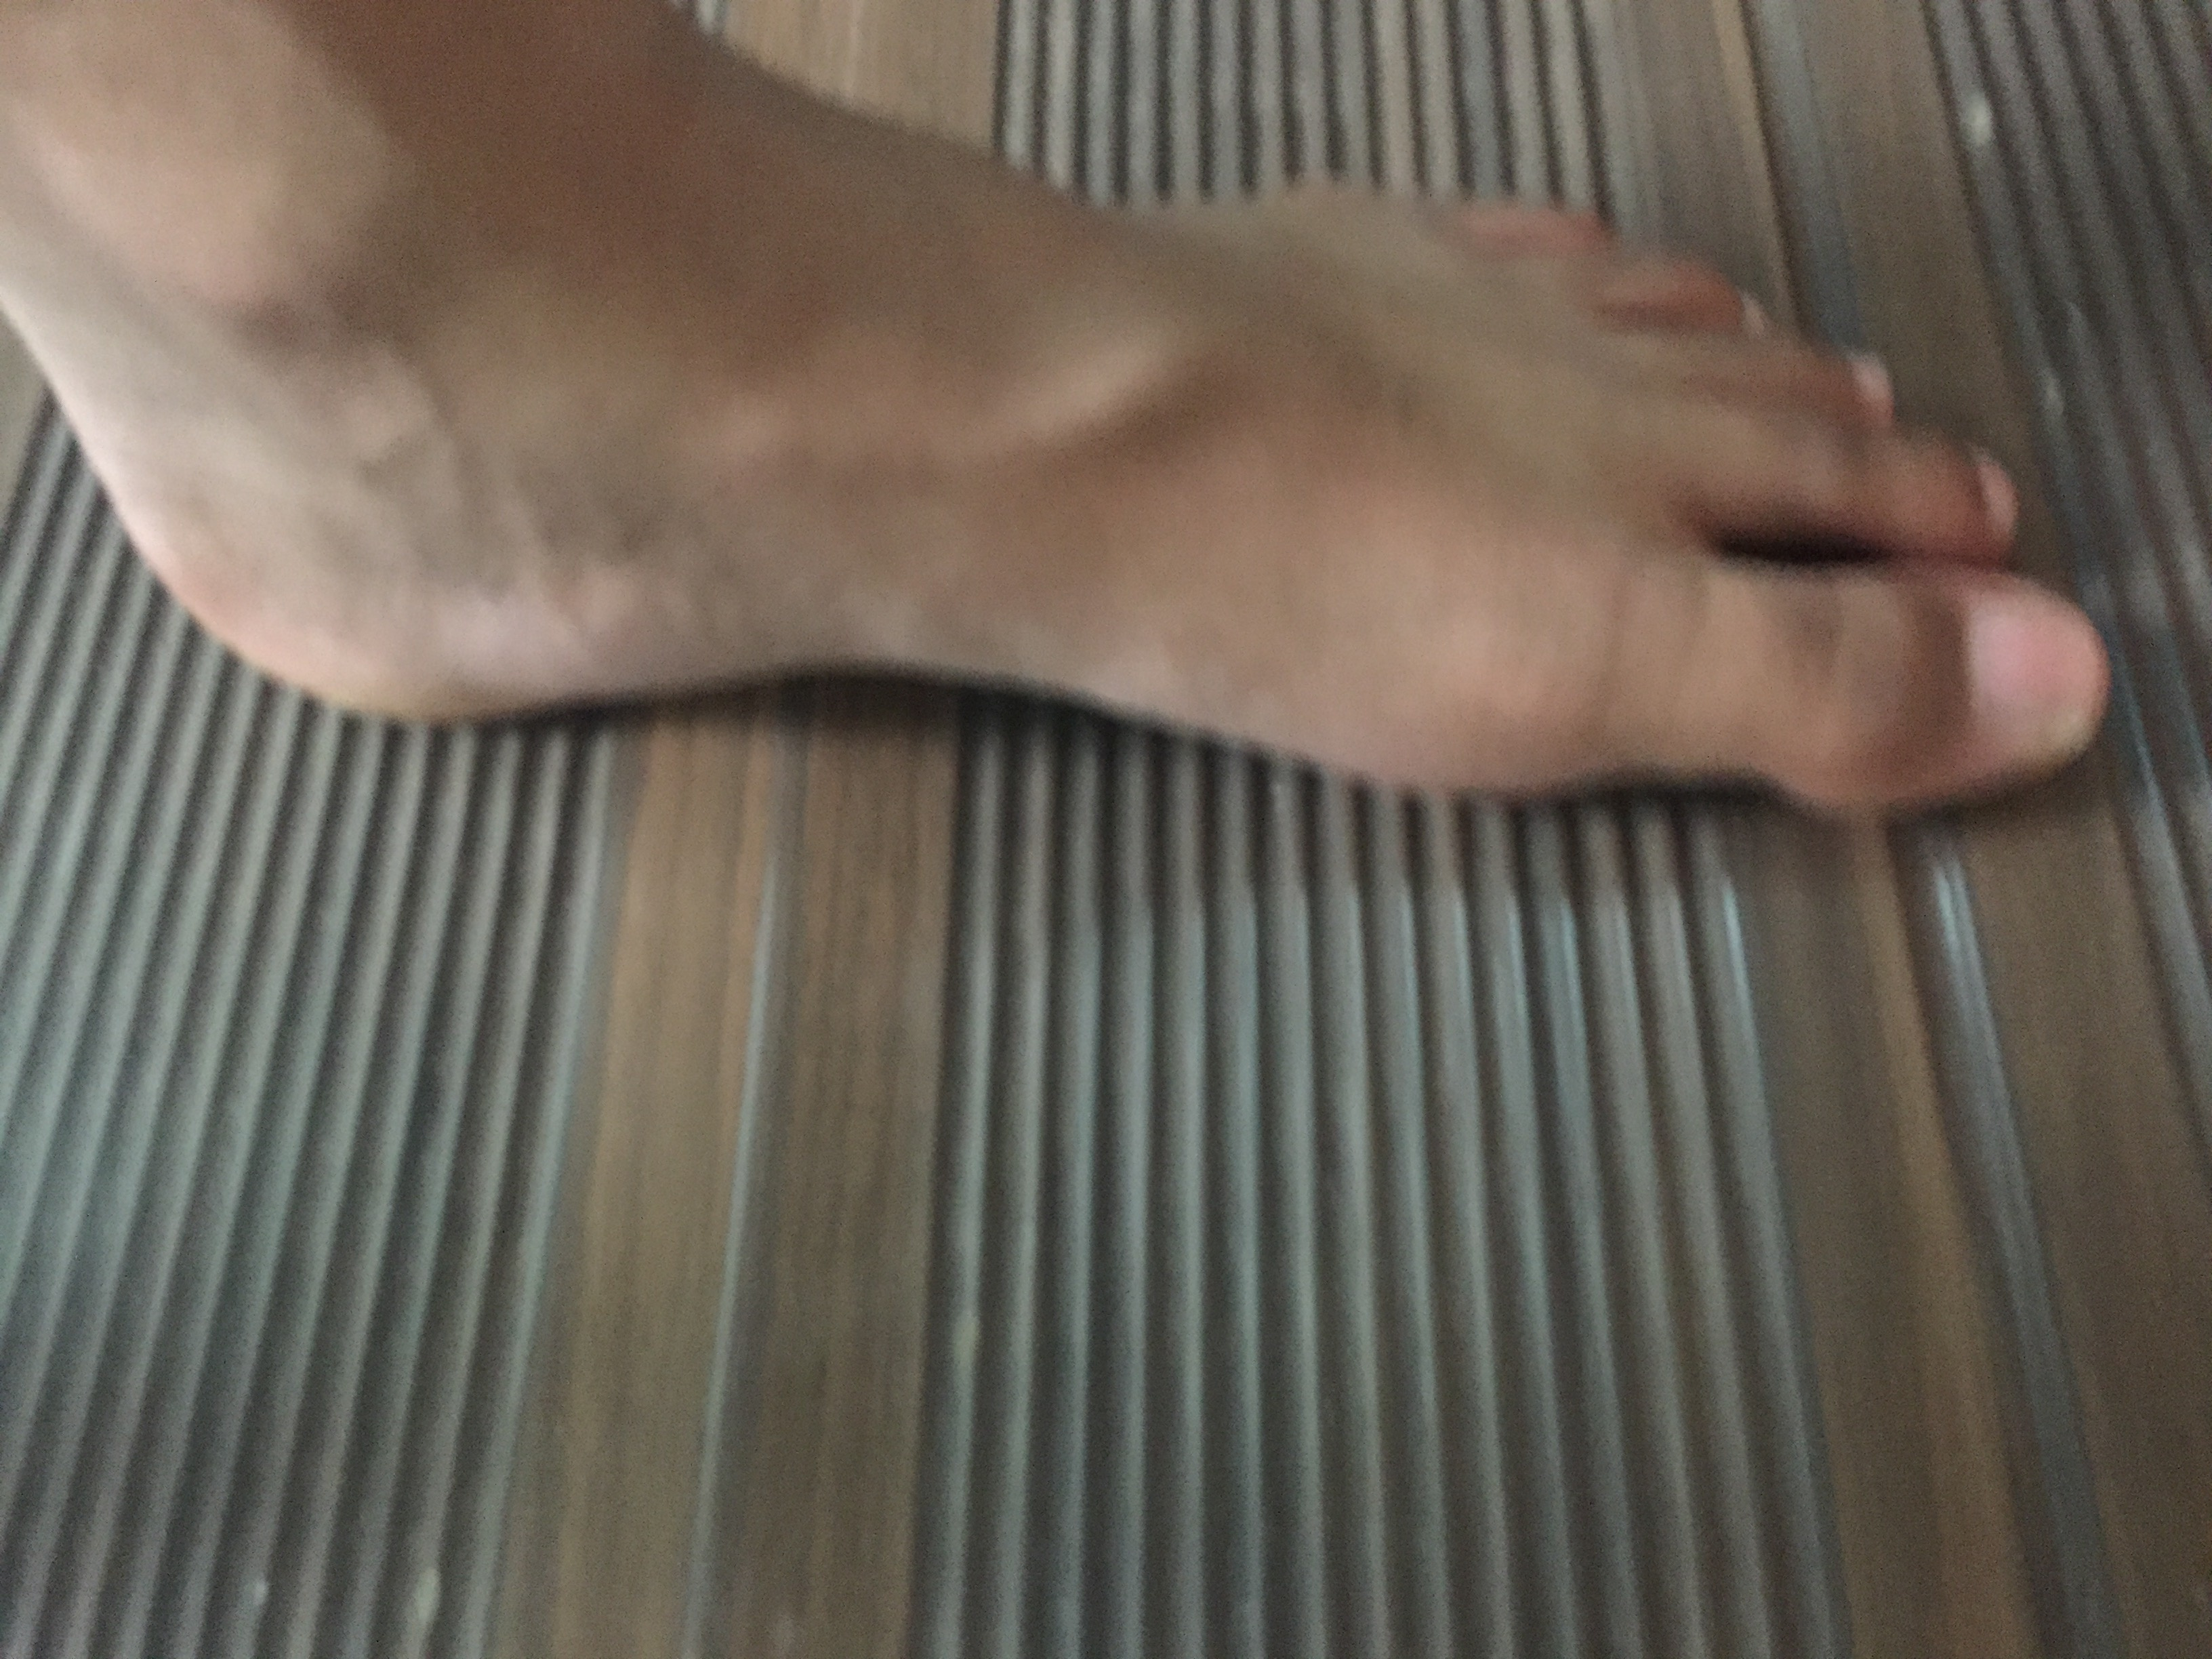feet: (16, 16, 2125, 840)
